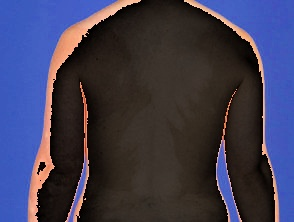vitiligo: (27, 0, 282, 222)
